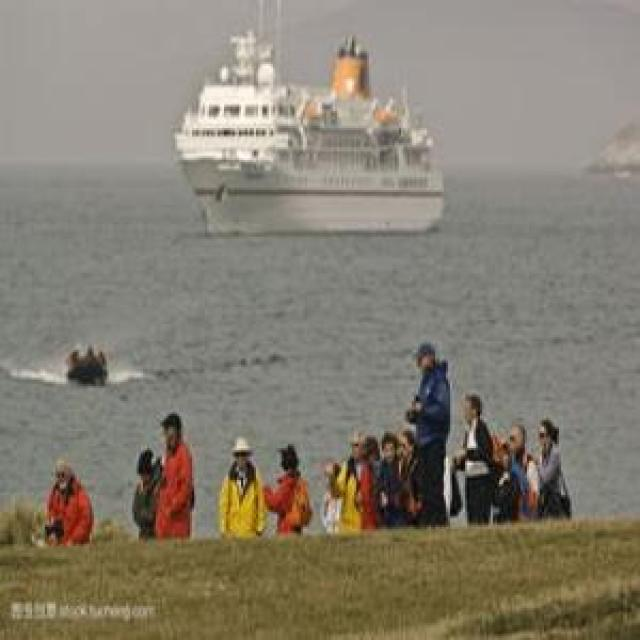houseboat: (60, 335, 110, 389)
passenger ship: (174, 23, 452, 236)
